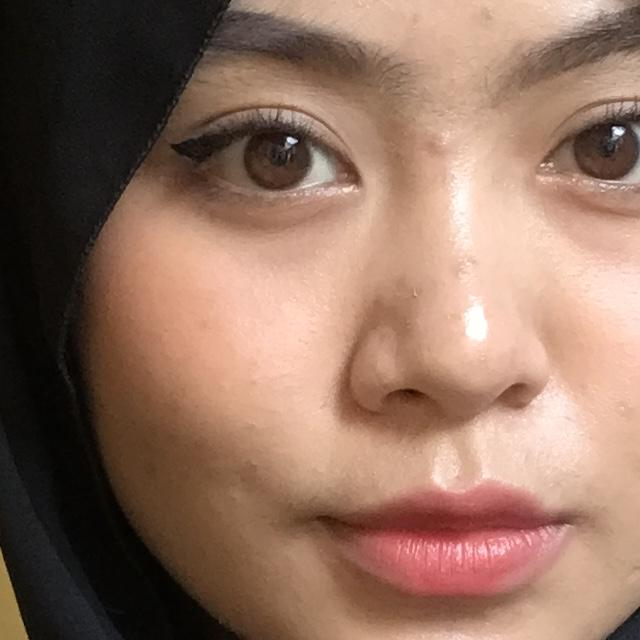kapan: (0, 346, 360, 640)
